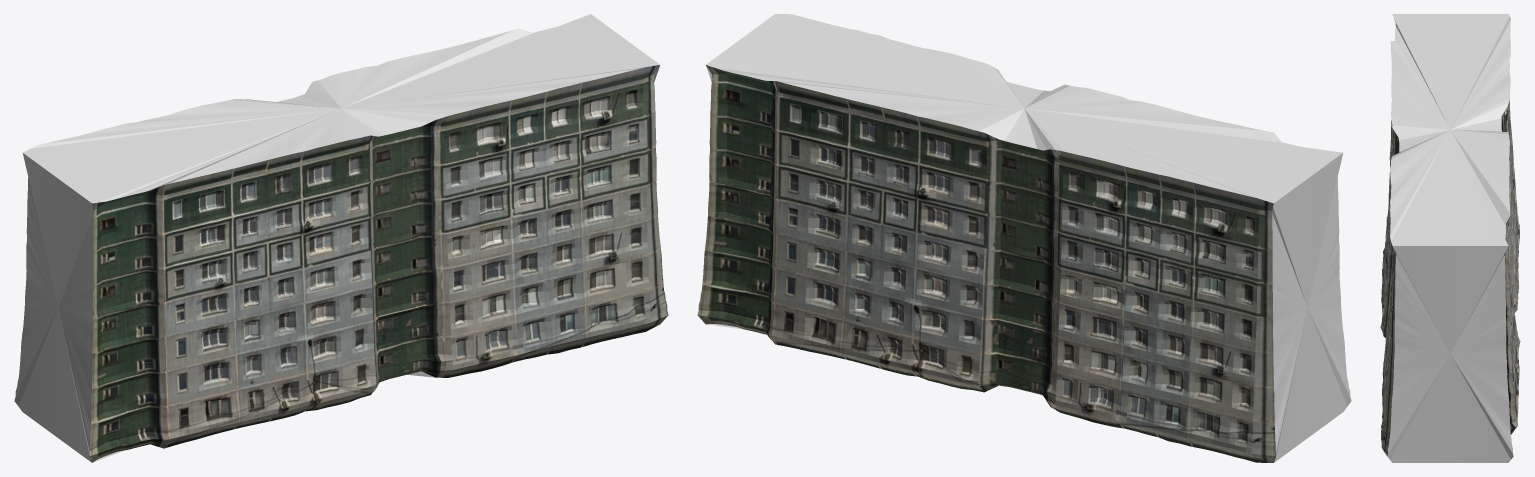
The model's file is Blok2.2.fbx.
3 views of the same model, side by side, from view 1: azimuth 30°, elevation 25°; view 2: azimuth 150°, elevation 25°; view 3: azimuth 270°, elevation 25° (orthographic). The views are drawn at different scales.
Visible parts, largest first — view 1: commieBlock2; view 2: commieBlock2; view 3: commieBlock2.
Boxes of the visible parts, <box> form: commieBlock2: <box>14,14,668,462</box>; commieBlock2: <box>697,14,1351,462</box>; commieBlock2: <box>1380,14,1520,462</box>.
Size of the model in its own units: 243 by 106 by 61.06.
2 materials, 1 textured.
